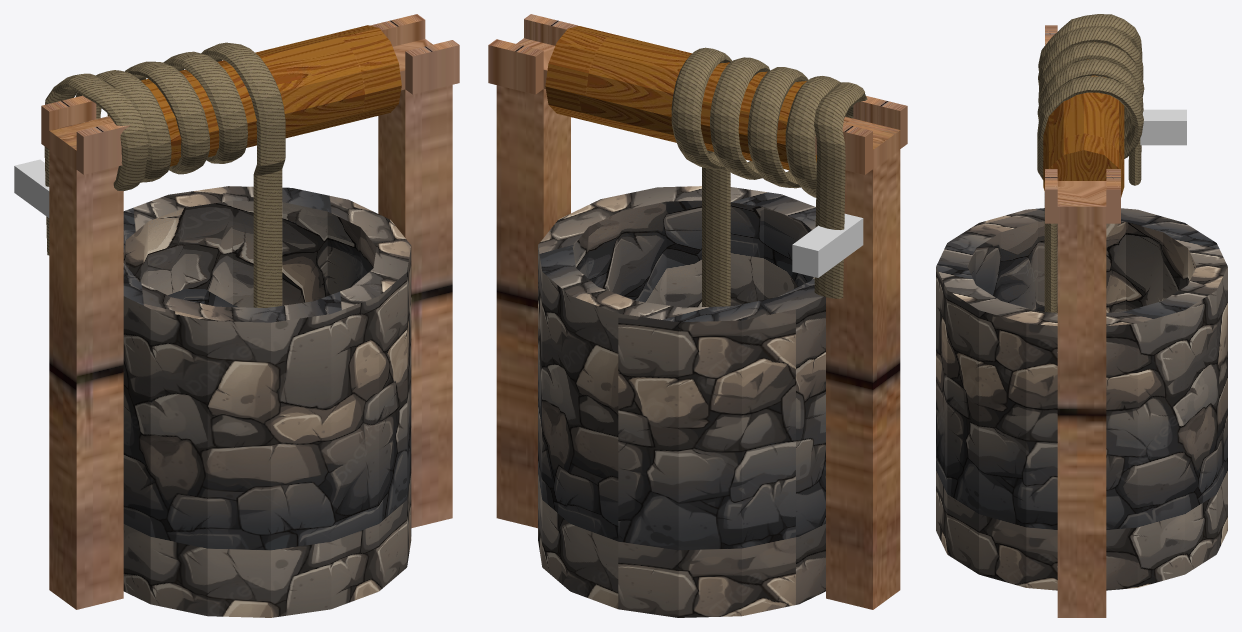
File: pozo.fbx
3 renders of one model, left to right at view 1: azimuth 30°, elevation 25°; view 2: azimuth 150°, elevation 25°; view 3: azimuth 270°, elevation 25°, orthographic. The views are drawn at different scales.
Visible parts, largest first — view 1: pozo, palo2, Cylinder, tronco, palanca; view 2: pozo, palo2, Cylinder, tronco, palanca; view 3: pozo, palo2, Cylinder, tronco, palanca.
Boxes of the visible parts, x1,y1,x2,y2 form: pozo: (123,186,411,617); palo2: (41,14,459,609); Cylinder: (44,42,285,307); tronco: (107,25,401,166); palanca: (14,159,49,217); pozo: (538,186,825,617); palo2: (488,14,907,609); Cylinder: (671,47,867,306); tronco: (545,26,816,170); palanca: (792,213,863,277); pozo: (936,208,1227,590); palo2: (1045,25,1120,617); Cylinder: (1037,14,1144,312); tronco: (1043,59,1124,197); palanca: (1140,109,1186,145).
Bounding box in the file's own units: 267 × 343 × 200.
4 materials, 4 textured.
